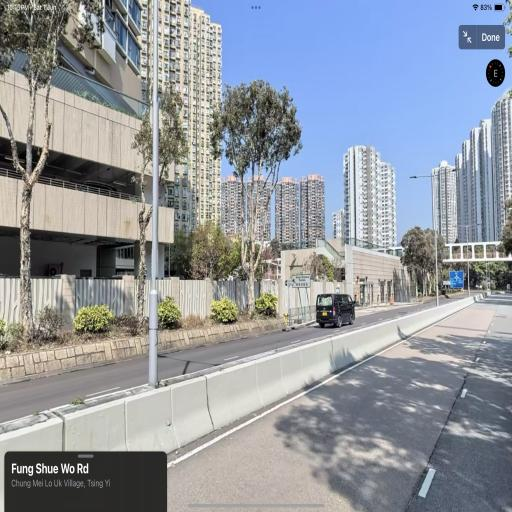Roads: (38, 284, 503, 503)
Trees: (205, 56, 336, 323), (115, 73, 190, 371)
